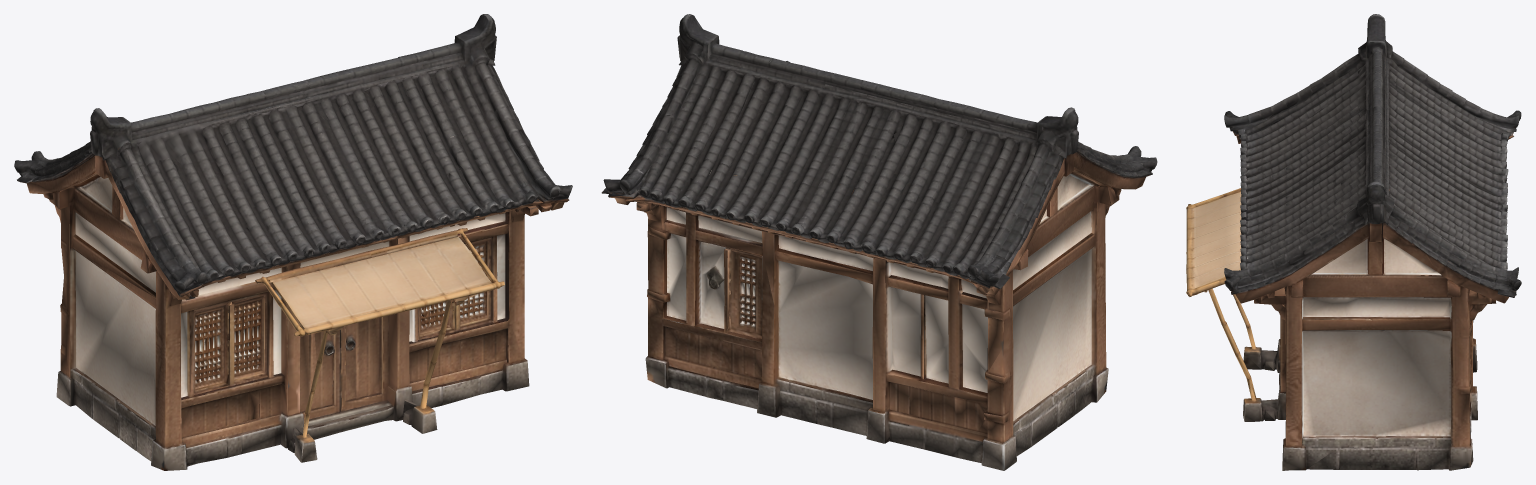
Rendered from 01_Humble_Two_Bay_Dwelling_LOD1.fbx.
3 renders of one model, left to right at view 1: azimuth 30°, elevation 25°; view 2: azimuth 150°, elevation 25°; view 3: azimuth 270°, elevation 25°, orthographic. The views are drawn at different scales.
Visible parts, largest first — view 1: 01_Humble_Two_Bay_Dwelling_L1; view 2: 01_Humble_Two_Bay_Dwelling_L1; view 3: 01_Humble_Two_Bay_Dwelling_L1.
Part boxes in pixels (x1,y1,x2,y2): 01_Humble_Two_Bay_Dwelling_L1: [14, 14, 572, 470]; 01_Humble_Two_Bay_Dwelling_L1: [601, 14, 1157, 470]; 01_Humble_Two_Bay_Dwelling_L1: [1186, 14, 1521, 470].
Bounding box in the file's own units: 6.14 × 4.8 × 4.97.
